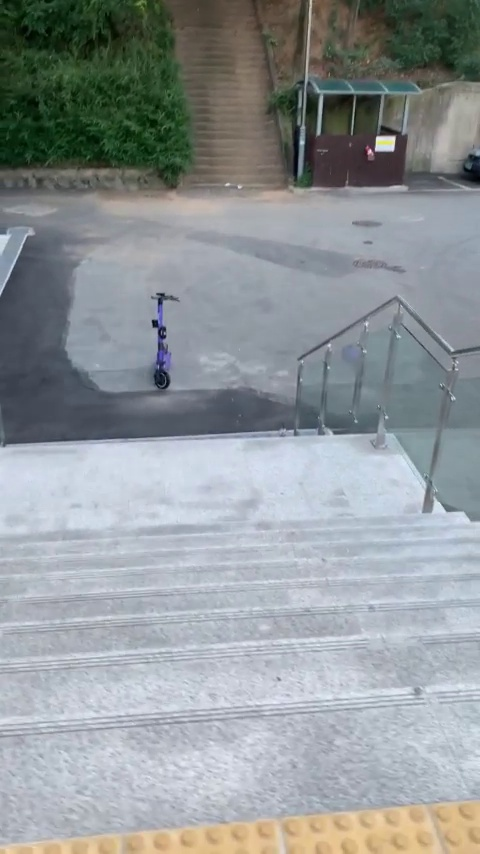beam: (145, 281, 190, 397)
